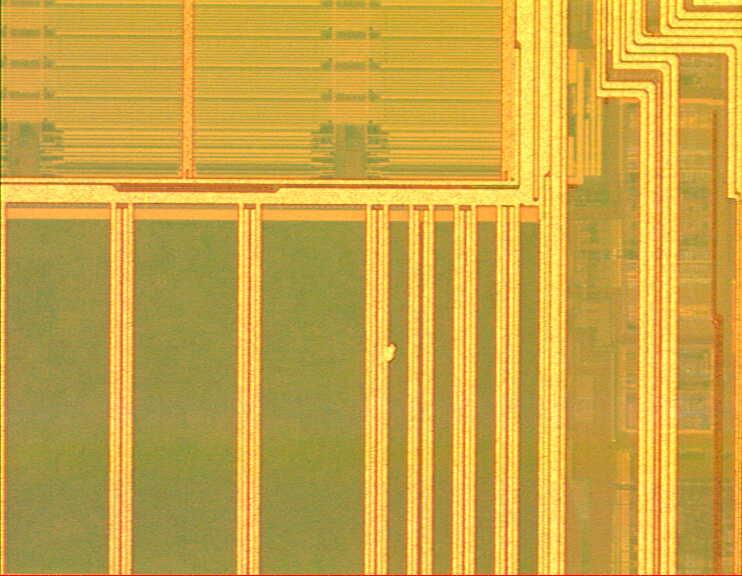BLOCK ETCH: (378, 340, 406, 368)
